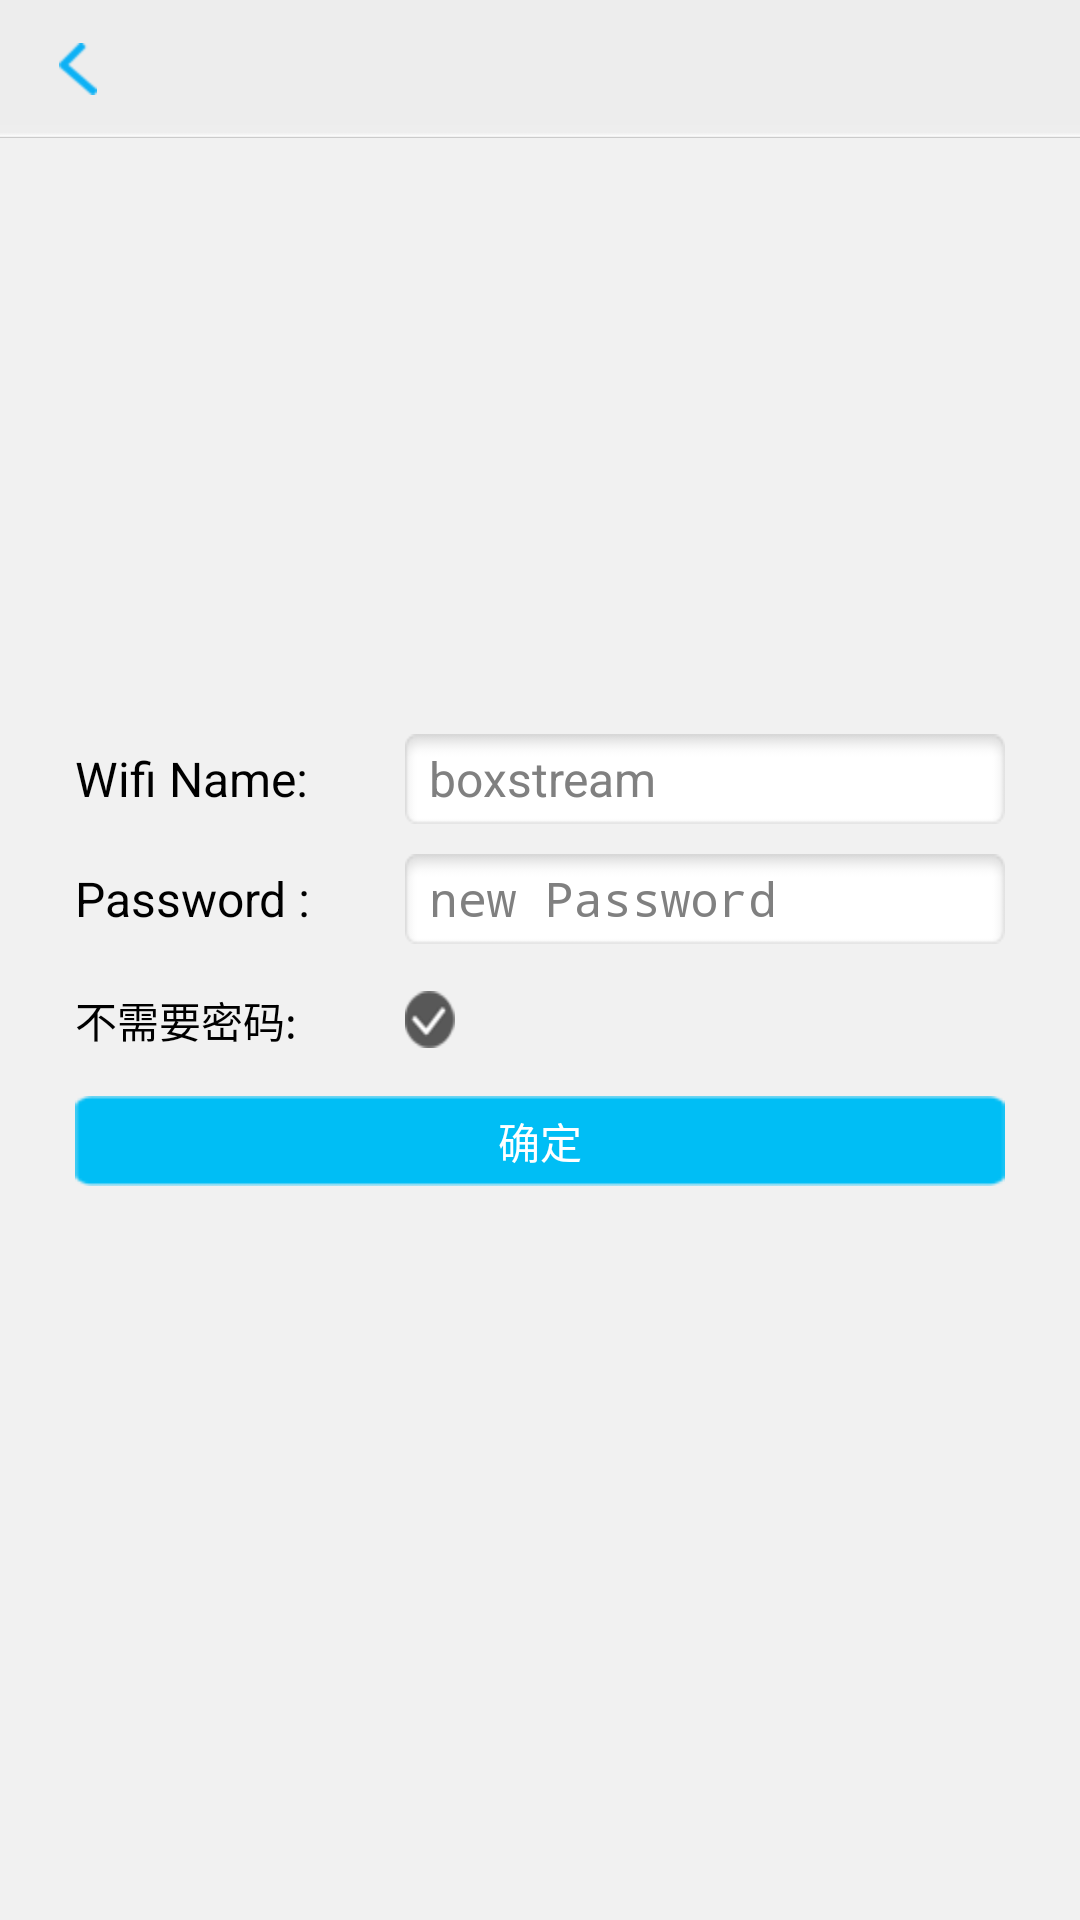

Icons on this 1080px×1920px Android screen, each with its box as [x1=x1, y1=y1, x2=x2, y2=y2]:
bnt back nor: [x1=59, y1=43, x2=97, y2=95]
